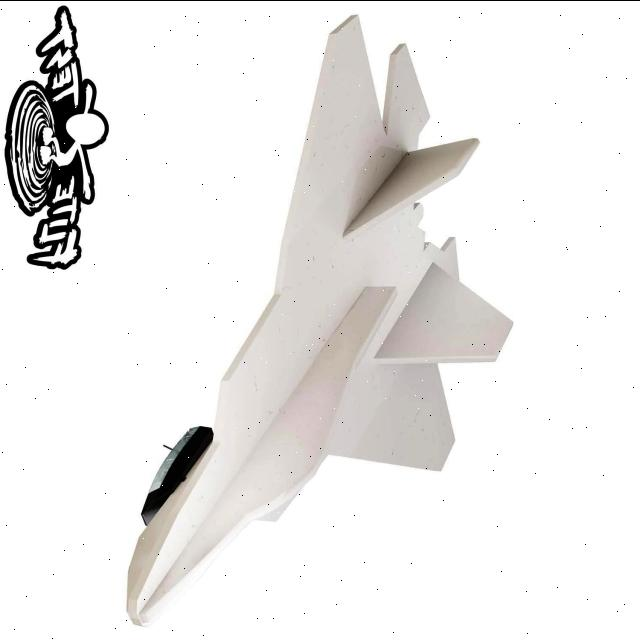F22: (104, 2, 558, 626)
